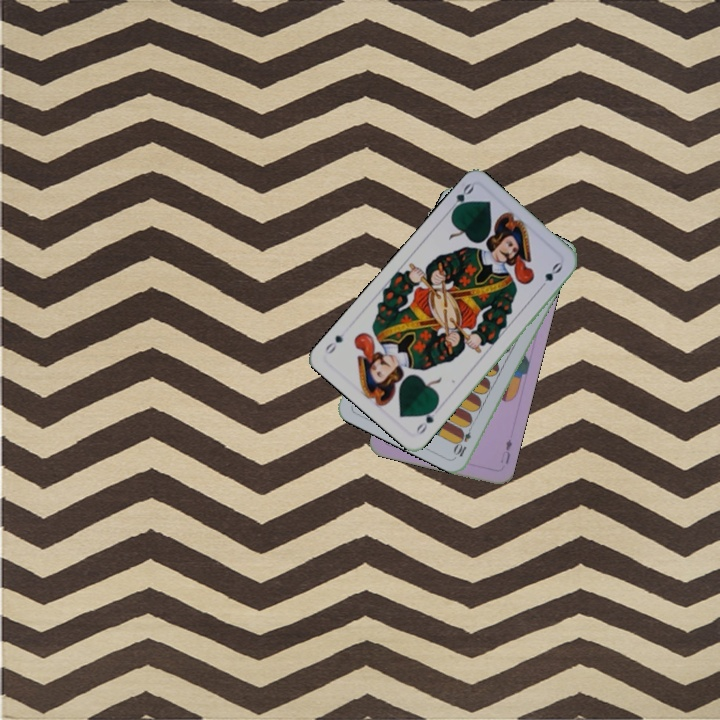E10: (451, 420, 476, 459)
EU: (496, 435, 515, 467)
GO: (444, 180, 476, 217), (412, 401, 440, 437)
